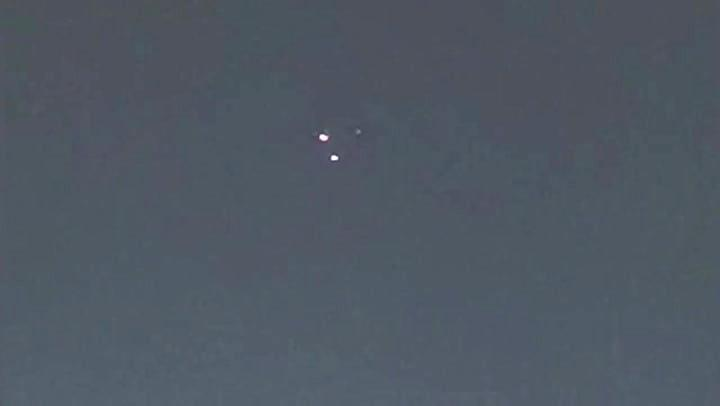Plane: (313, 108, 365, 168)
